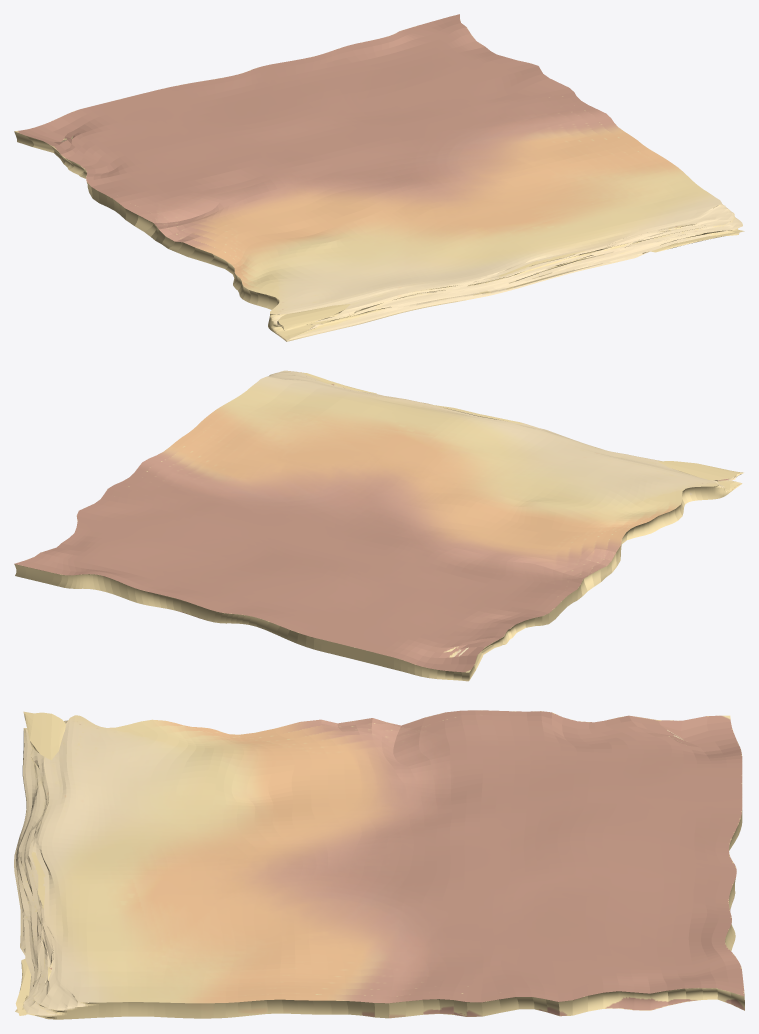
The picture shows the model from 3 angles, top to bottom: view 1: azimuth 30°, elevation 25°; view 2: azimuth 150°, elevation 25°; view 3: azimuth 270°, elevation 25°; orthographic projection. The views are drawn at different scales.
Parts seen in each view (by area): view 1: 立方体.002; view 2: 立方体.002; view 3: 立方体.002.
Part boxes in pixels (x1,y1,x2,y2): 立方体.002: (14, 14, 744, 341); 立方体.002: (14, 370, 743, 681); 立方体.002: (14, 710, 744, 1019).
Size of the model in its own units: 8036 by 316 by 8480.
Materials: 1 (1 with a texture image).
